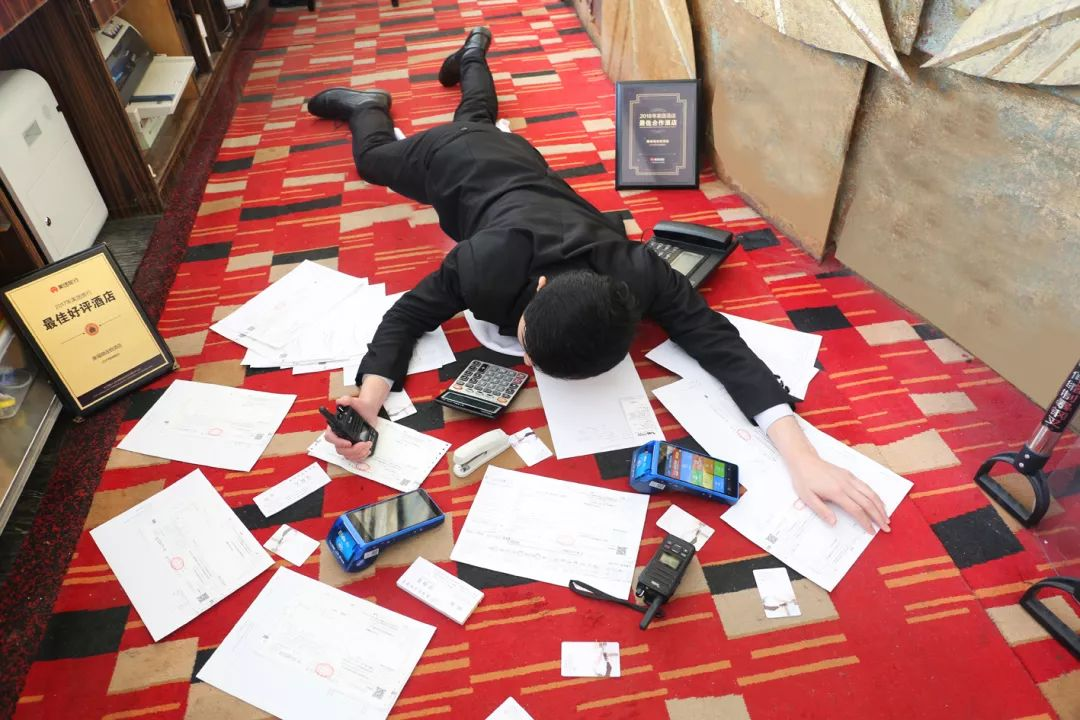down: (271, 23, 900, 541)
